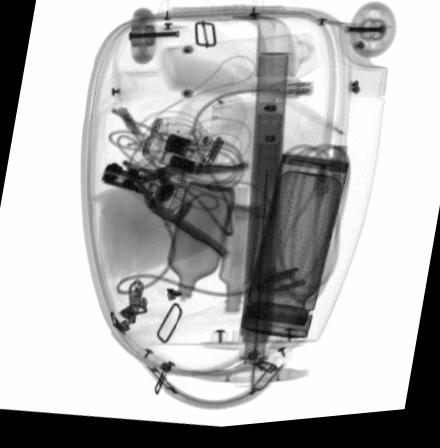Pliers: (99, 163, 248, 260)
